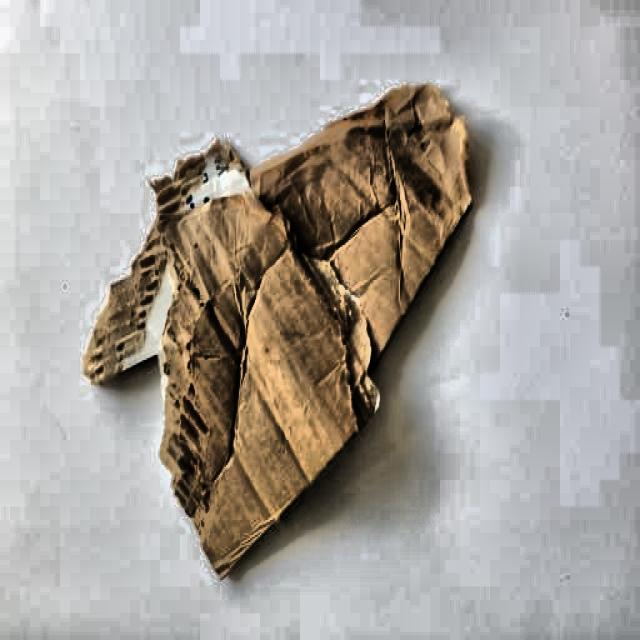cardboard: (82, 78, 472, 588)
